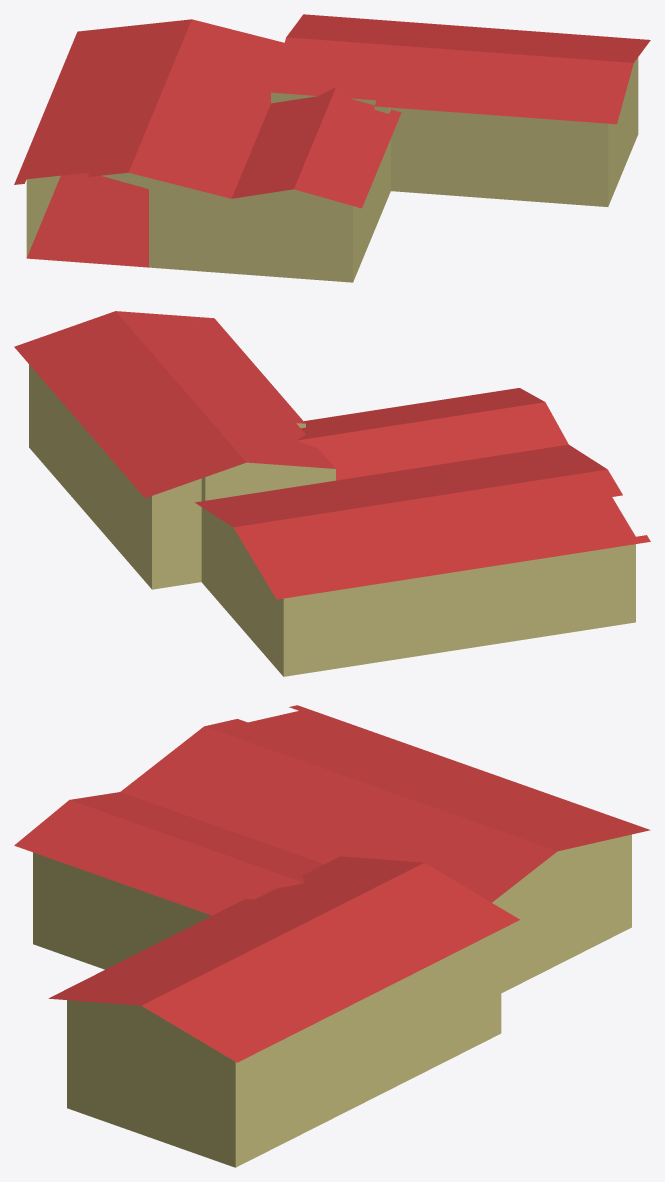
3 renders of one model, top to bottom at view 1: azimuth 30°, elevation 25°; view 2: azimuth 150°, elevation 25°; view 3: azimuth 270°, elevation 25°, orthographic. The views are drawn at different scales.
Size of the model in its own units: 65.08 by 46.83 by 11.05.
